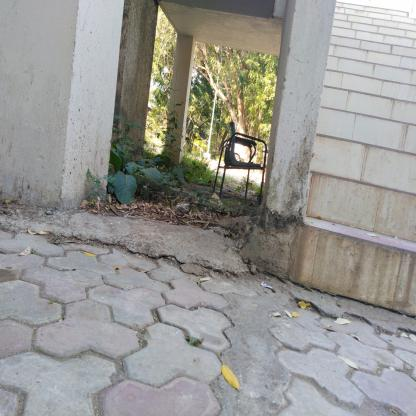stairs: (337, 12, 415, 330)
